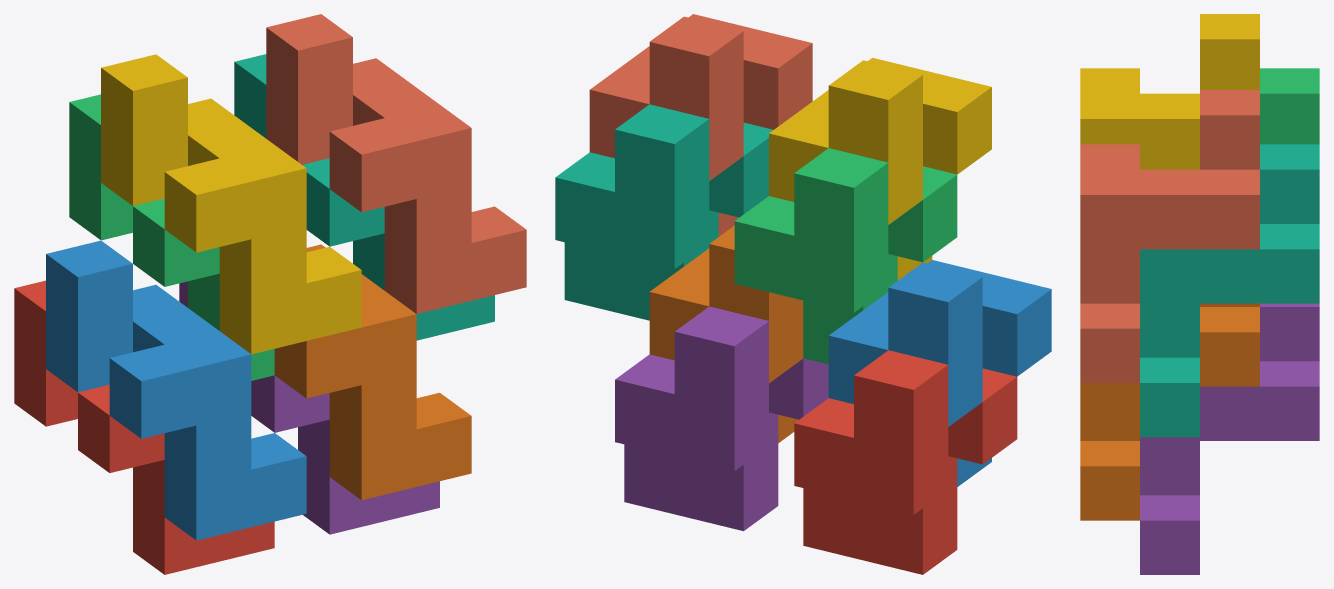
Rendered from tiling.obj.
3 renders of one model, left to right at view 1: azimuth 30°, elevation 25°; view 2: azimuth 150°, elevation 25°; view 3: azimuth 270°, elevation 25°, orthographic. The views are drawn at different scales.
Parts seen in each view (by area): view 1: copy_1_domain_2, copy_1_domain_4, copy_1_domain_8, copy_1_domain_6, copy_1_domain_1, copy_1_domain_3, copy_1_domain_7, copy_1_domain_5; view 2: copy_1_domain_1, copy_1_domain_5, copy_1_domain_7, copy_1_domain_3, copy_1_domain_2, copy_1_domain_4, copy_1_domain_8, copy_1_domain_6; view 3: copy_1_domain_8, copy_1_domain_7, copy_1_domain_5, copy_1_domain_4, copy_1_domain_6, copy_1_domain_3.
Part boxes in pixels (x1,y1,x2,y2): copy_1_domain_2: (46, 240, 306, 540); copy_1_domain_4: (101, 54, 361, 354); copy_1_domain_8: (266, 14, 526, 313); copy_1_domain_6: (274, 244, 471, 500); copy_1_domain_1: (14, 280, 274, 574); copy_1_domain_3: (69, 94, 274, 380); copy_1_domain_7: (234, 54, 494, 340); copy_1_domain_5: (179, 281, 439, 534); copy_1_domain_1: (794, 350, 1017, 574); copy_1_domain_5: (615, 306, 828, 531); copy_1_domain_7: (555, 104, 773, 320); copy_1_domain_3: (734, 148, 957, 364); copy_1_domain_2: (828, 260, 1051, 486); copy_1_domain_4: (769, 57, 991, 280); copy_1_domain_8: (589, 14, 812, 236); copy_1_domain_6: (649, 225, 803, 442); copy_1_domain_8: (1080, 90, 1259, 382); copy_1_domain_7: (1140, 144, 1319, 437); copy_1_domain_5: (1140, 303, 1319, 574); copy_1_domain_4: (1080, 14, 1259, 169); copy_1_domain_6: (1080, 303, 1259, 520); copy_1_domain_3: (1260, 68, 1319, 144).
Bounding box in the file's own units: 7 × 8 × 4.
